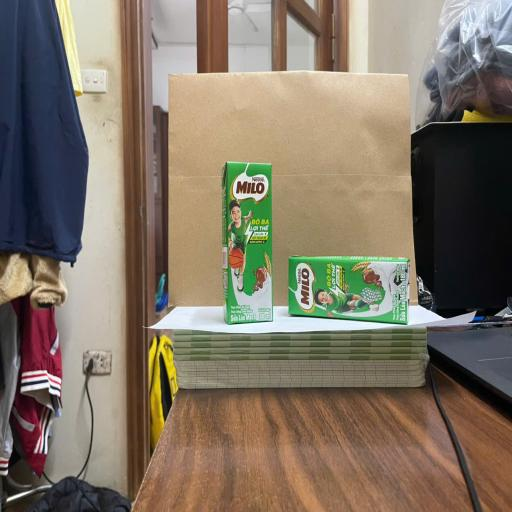milo: (288, 256, 410, 325), (222, 161, 272, 324)
